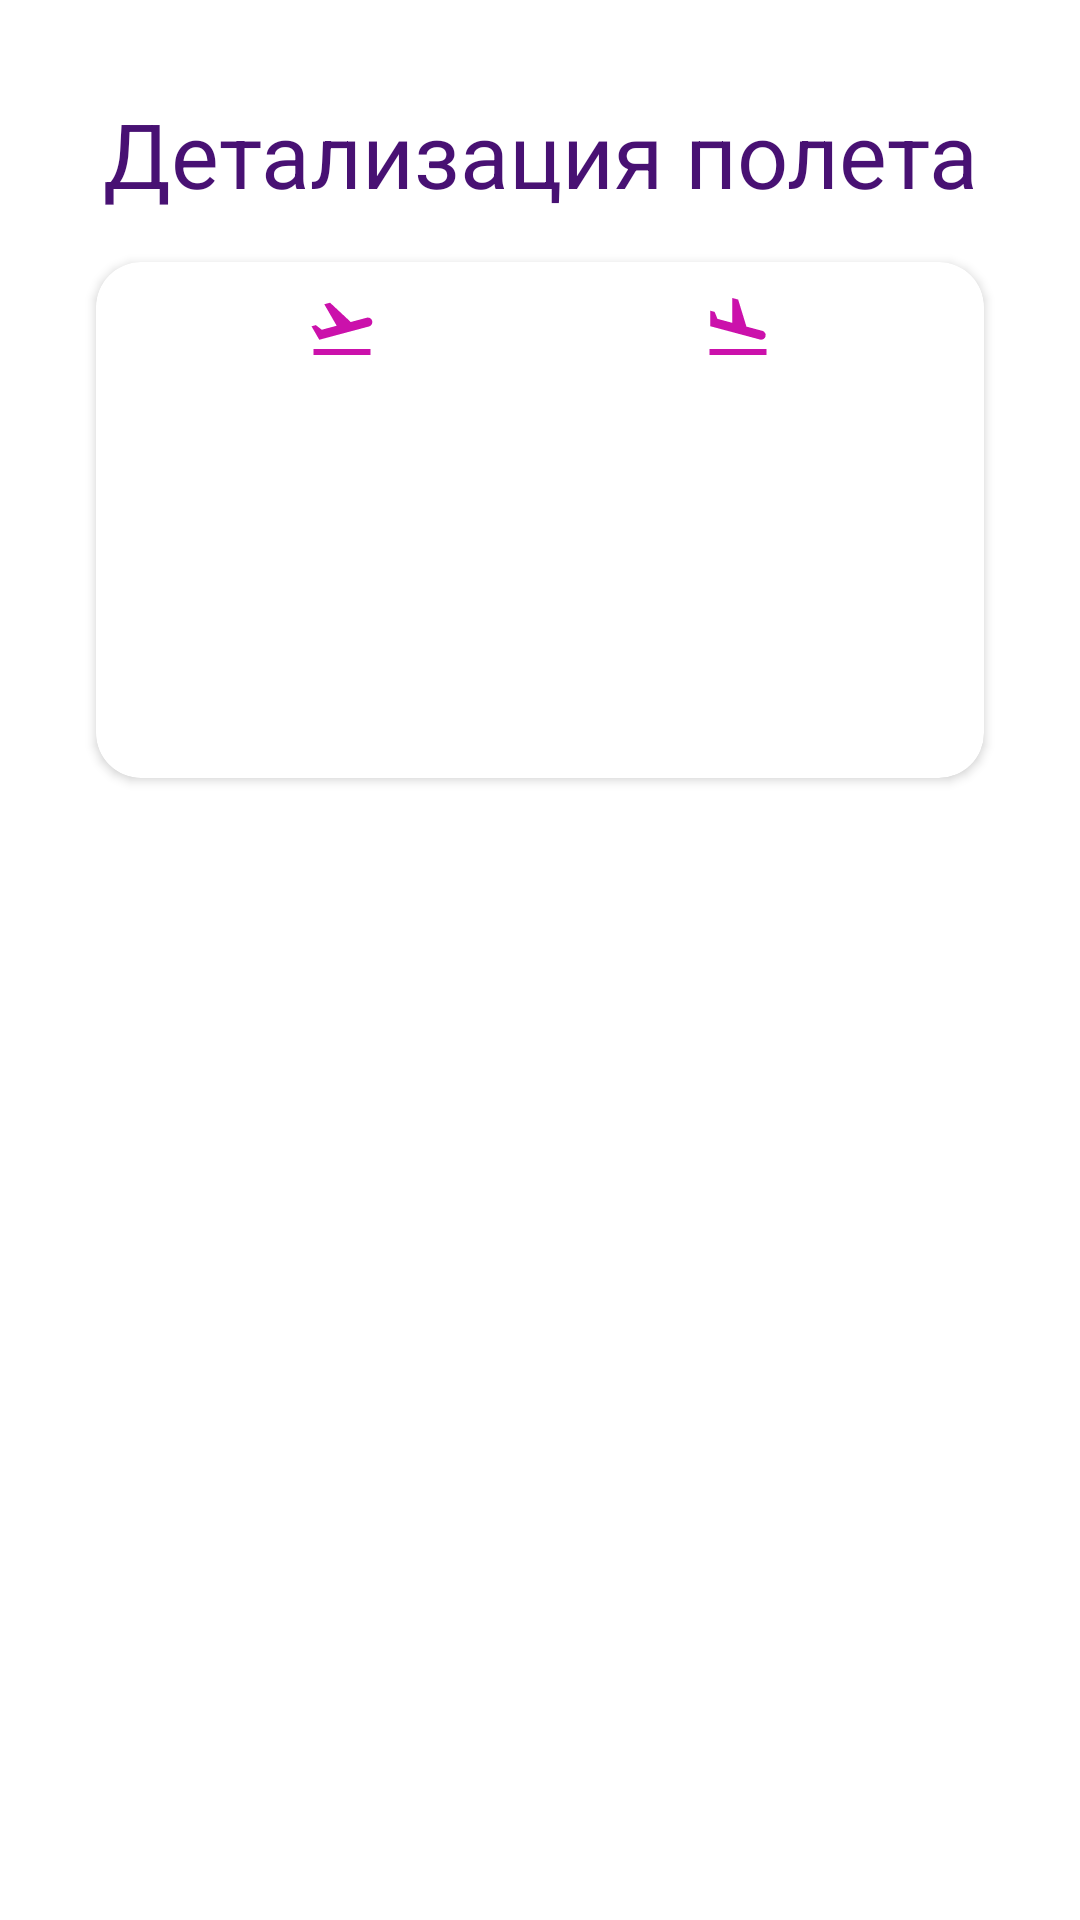

Icon bounding boxes for this 1080 × 1920 phone screenshot, format (x1, y1, x2, y2):
Отправление: (311, 302, 373, 355)
Прибытие: (709, 298, 767, 355)
